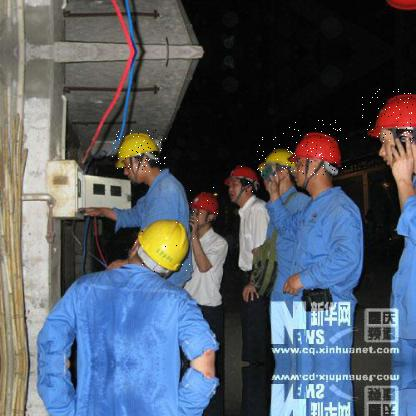safetyhelmet: (283, 120, 348, 176), (133, 220, 195, 274), (362, 88, 415, 143), (112, 130, 167, 173), (257, 137, 297, 178), (220, 157, 259, 194), (189, 187, 224, 223)
